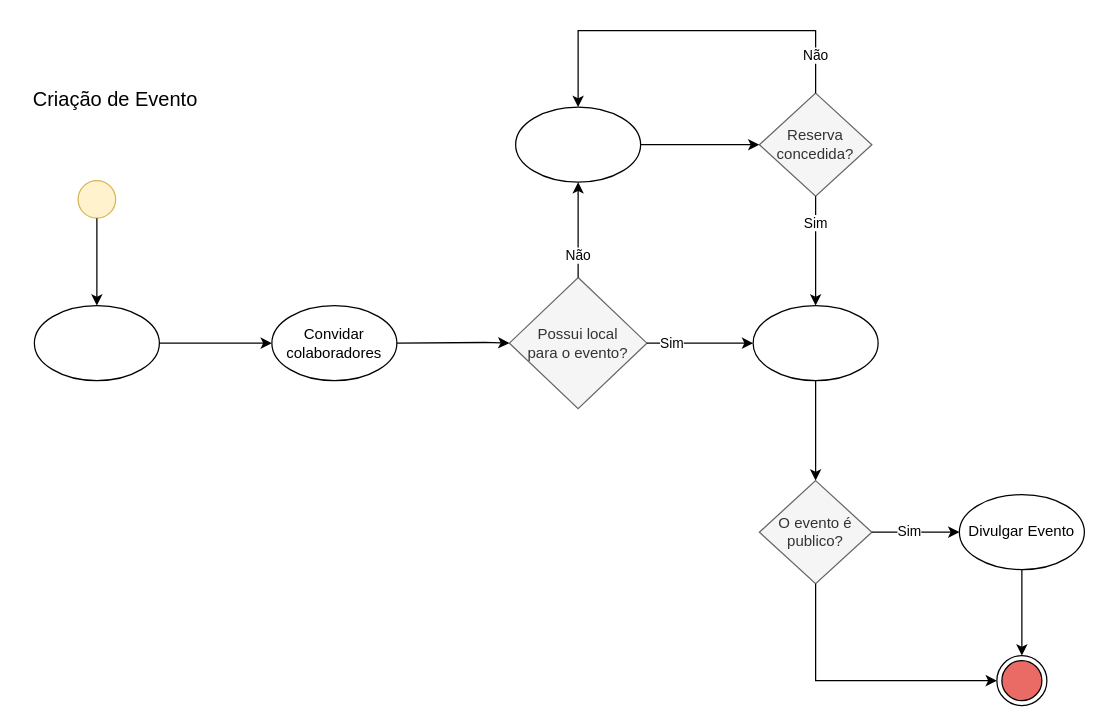
This 1106x728 diagram has some shape labels left out. The shapes that lost their labels are listed below. From the top down, each one's centre as x and y in pixels, then its label:
(577,144): Solicitar Reserva a um Espaço
(96,342): Definir datalhes do Evento
(815,342): Reservar Espaço
